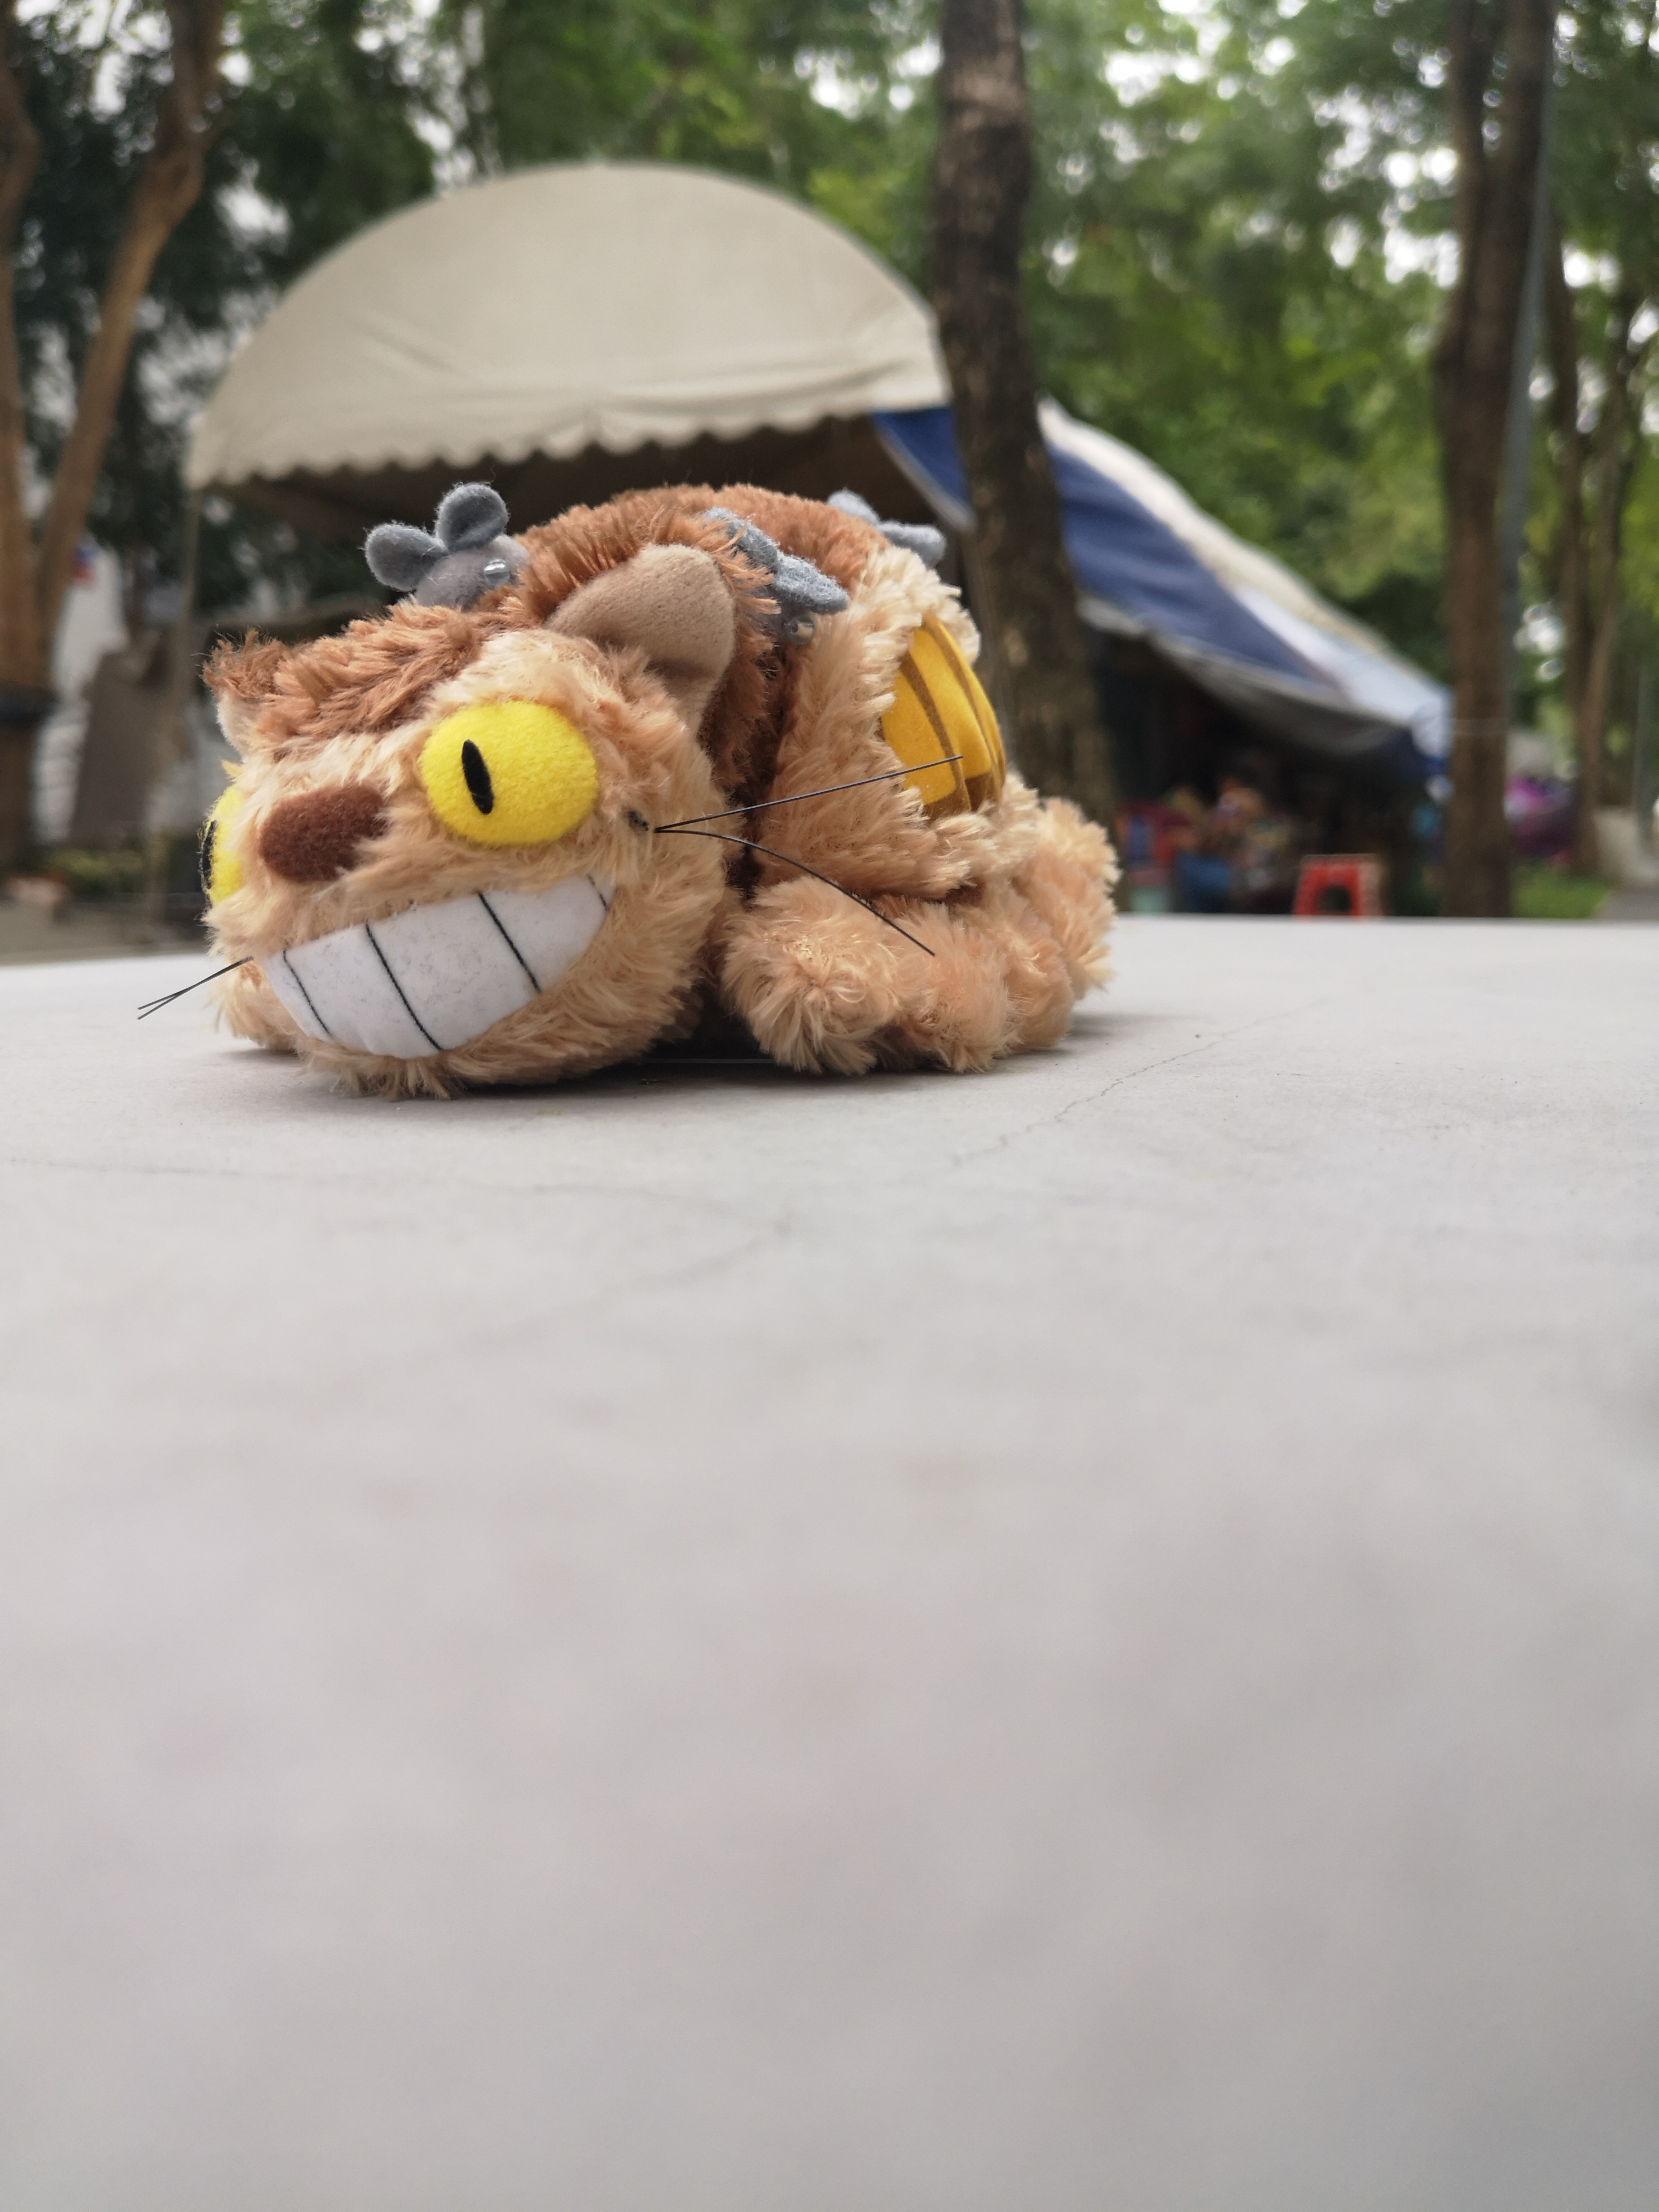nekobus: (120, 481, 1127, 1130)
